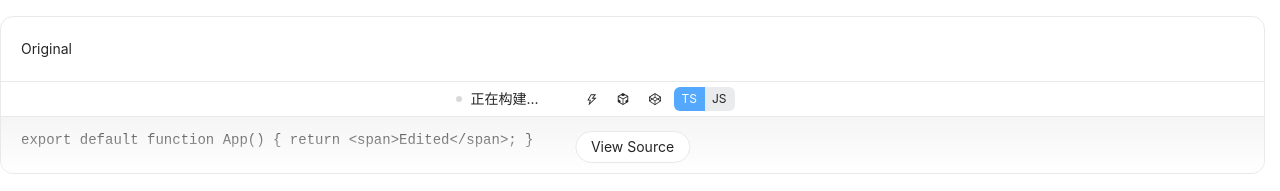
Test: Demo editor › preserves separate TS and JS drafts across language switches
This screenshot has width=1280, height=191.
Click the radio button "JS": (719, 99) [704,87,735,111]
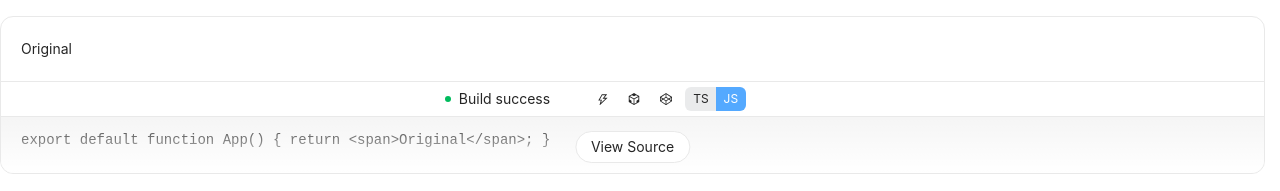
Click the radio button "TS": (701, 99) [685,87,717,111]
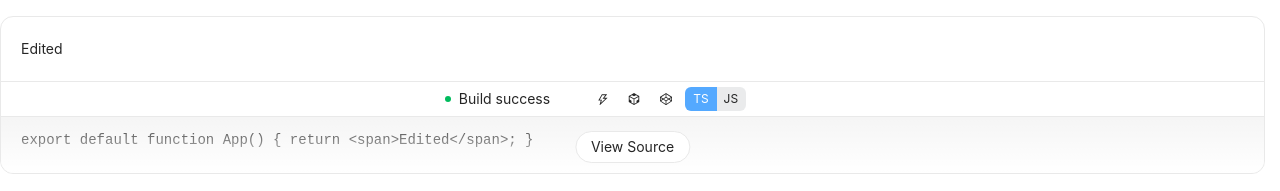
Now the text "Edited" is shown, box [21,40,63,57]
